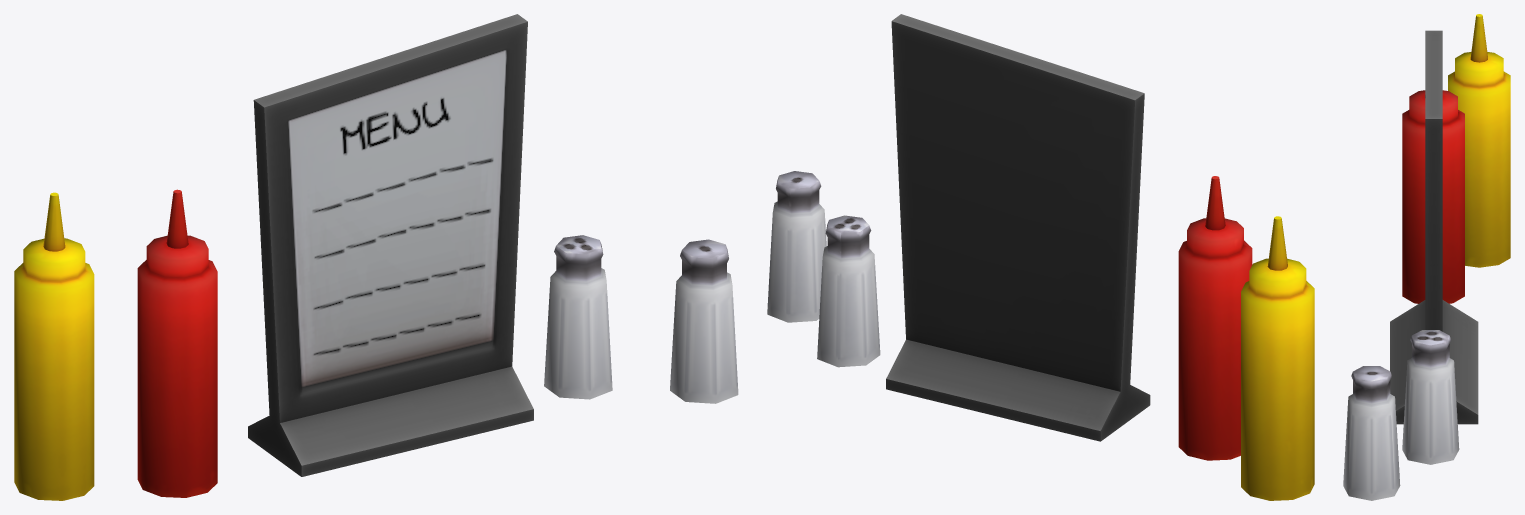
File: CafeTableTopSet01_1.FBX
3 views of the same model, side by side, from view 1: azimuth 30°, elevation 25°; view 2: azimuth 150°, elevation 25°; view 3: azimuth 270°, elevation 25° (orthographic). The views are drawn at different scales.
Parts seen in each view (by area): view 1: CafeTableTopSet01_1; view 2: CafeTableTopSet01_1; view 3: CafeTableTopSet01_1.
Boxes of the visible parts, x1=… form: CafeTableTopSet01_1: x1=14, y1=14, x2=738, y2=500; CafeTableTopSet01_1: x1=767, y1=14, x2=1314, y2=500; CafeTableTopSet01_1: x1=1343, y1=14, x2=1510, y2=500.
Size of what is drawn, in the model's own units: 0.5994 by 0.3336 by 0.1626.
